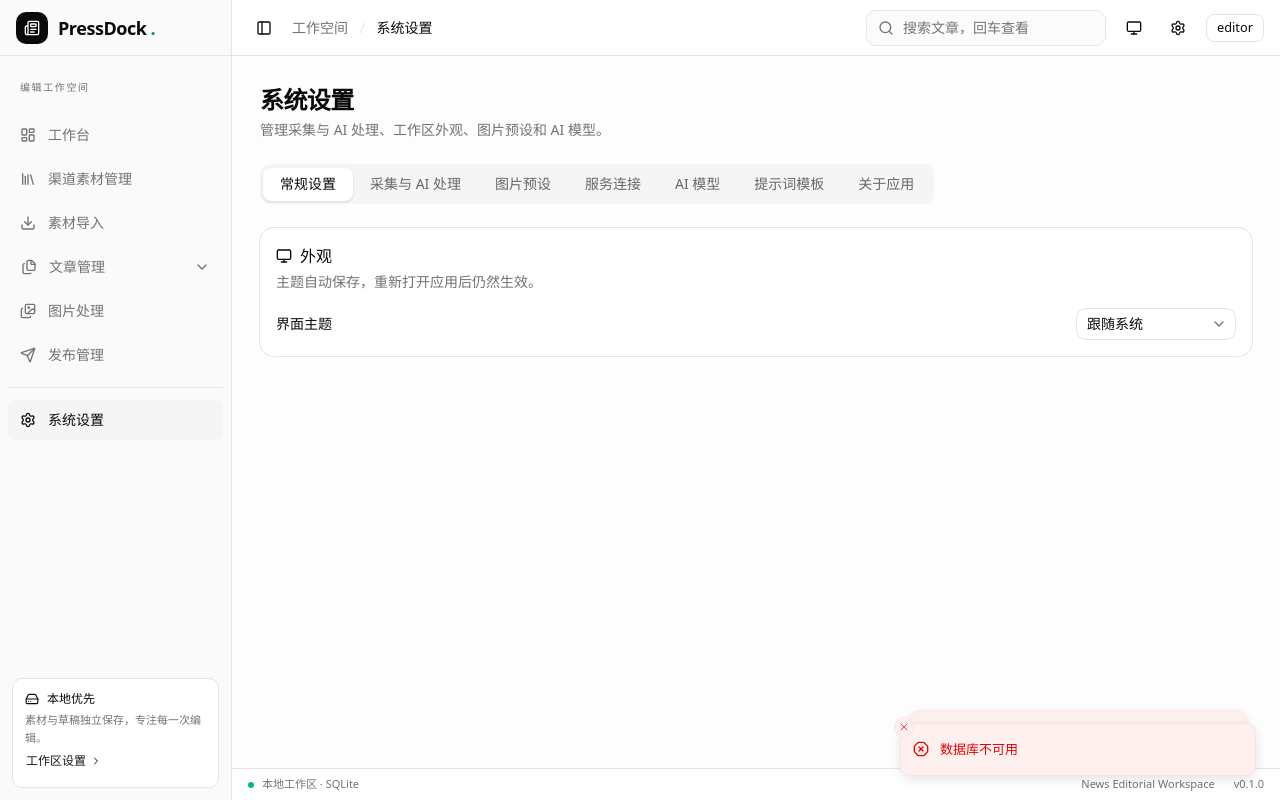
Test case: 工作区 › 服务检查失败切换标签后仍显示错误，关于应用使用前端版本
The width and height of the screenshot is (1280, 800).
What coordinates should you click on to do the following:
click the tab "服务连接"
I would click on:
 (613, 184)
Its box is x1=568 y1=168 x2=658 y2=200.
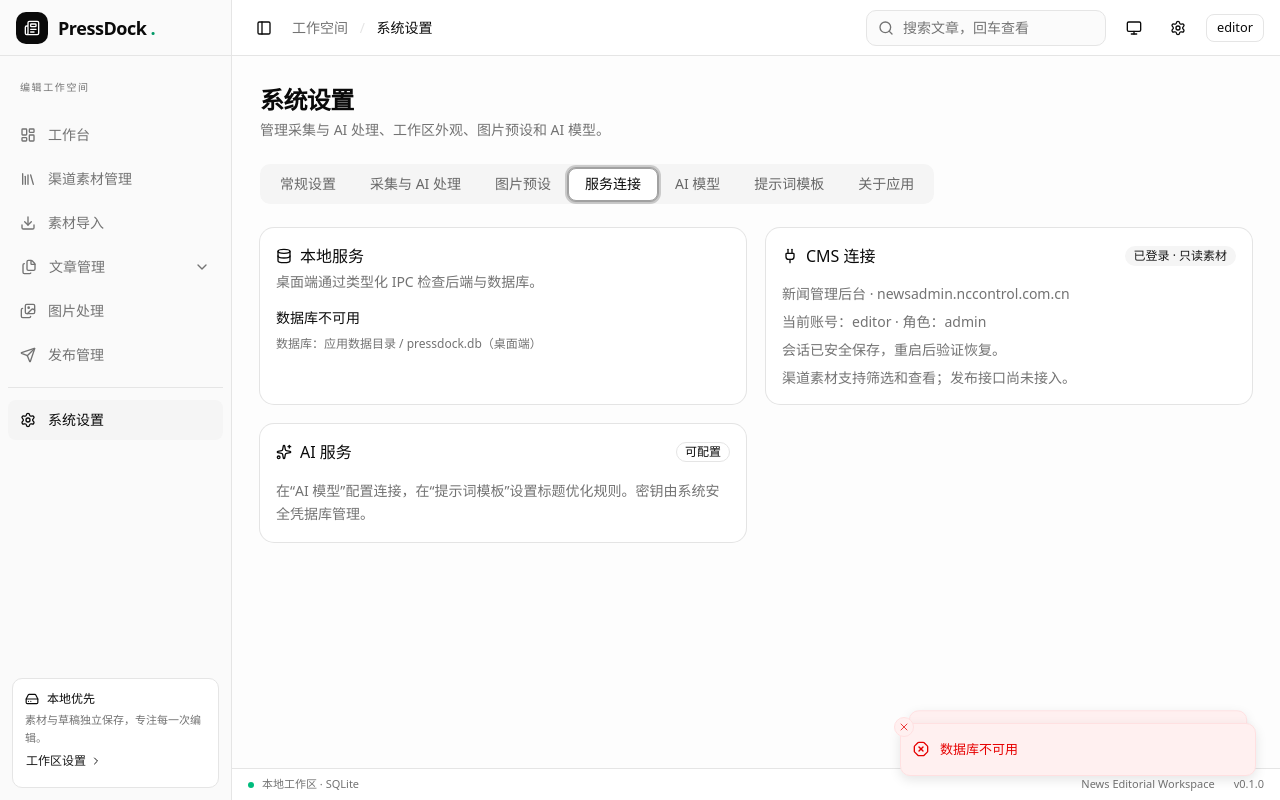
Expected: the message reads "数据库不可用", x1=276 y1=308 x2=360 y2=327
What coordinates should you click on to do the following:
click the tab "关于应用"
I would click on:
 (886, 184)
Its box is x1=841 y1=168 x2=931 y2=200.
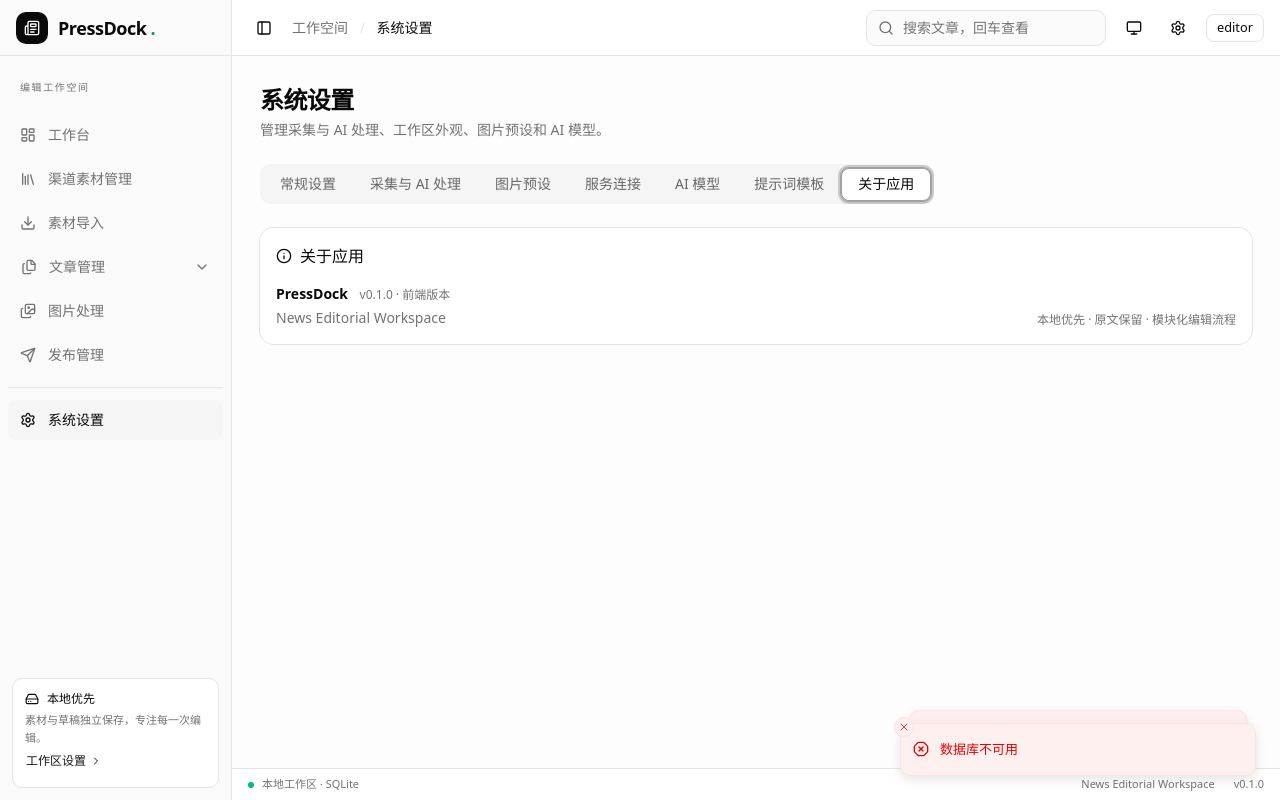
Expected: the panel "关于应用" shows "v0.1.0 · 前端版本", x1=260 y1=228 x2=1252 y2=344
What coordinates should you click on to do the following:
click the tab "服务连接"
I would click on:
 (613, 184)
Its box is x1=568 y1=168 x2=658 y2=200.
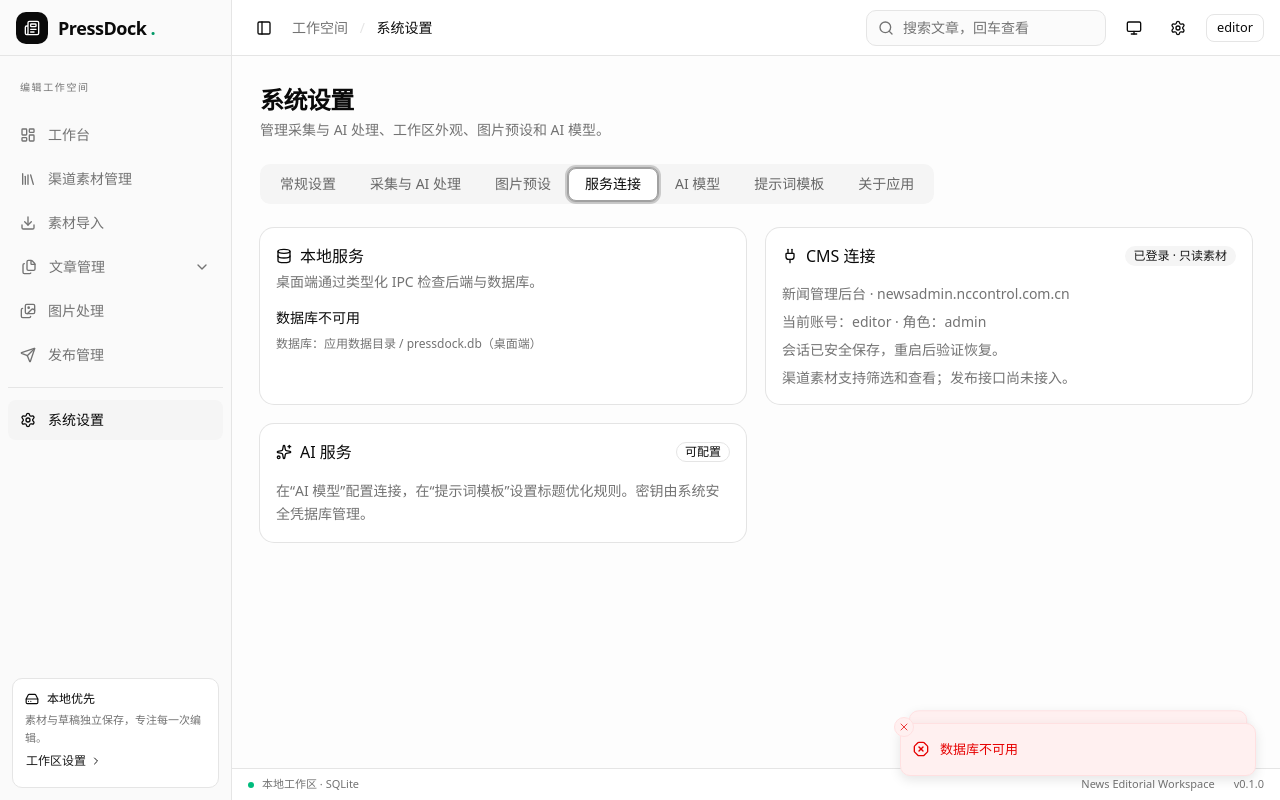
Expected: the message reads "数据库不可用", x1=276 y1=308 x2=360 y2=327
